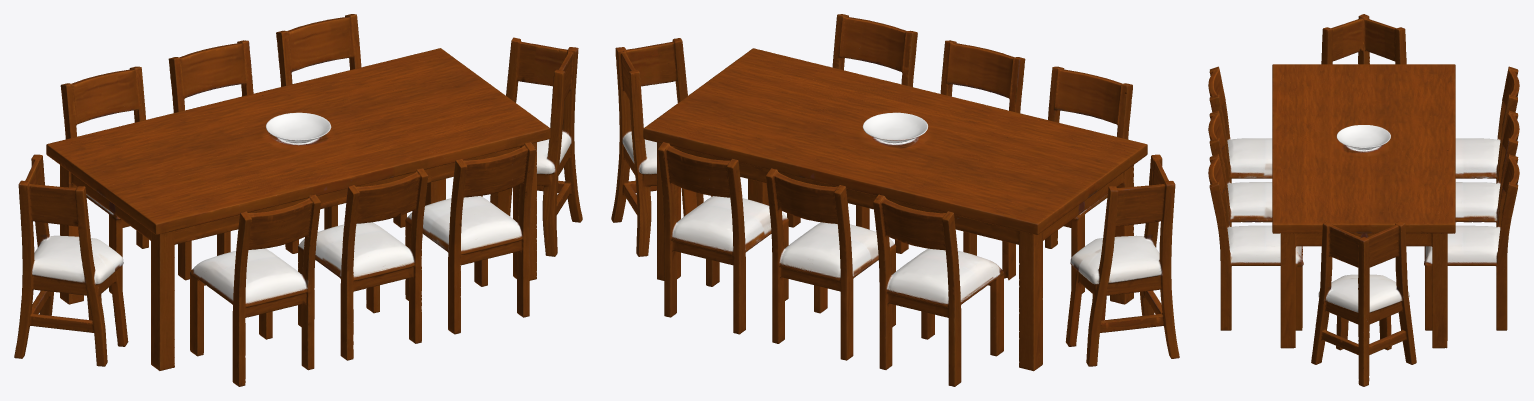
File: dining_set_8.glb
3 renders of one model, left to right at view 1: azimuth 30°, elevation 25°; view 2: azimuth 150°, elevation 25°; view 3: azimuth 270°, elevation 25°, orthographic. The views are drawn at different scales.
Bounding box in the file's own units: 1.9 × 0.5603 × 1.08.
Materials: 1 (1 with a texture image).
